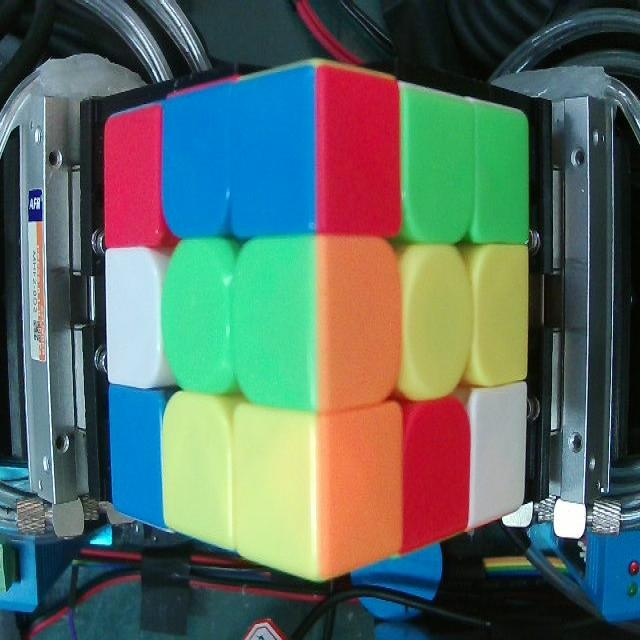b: (235, 87, 313, 229), (168, 98, 224, 232), (108, 393, 159, 518)
g: (238, 248, 310, 397), (408, 95, 468, 242), (168, 249, 224, 385), (477, 110, 530, 242)
o: (324, 414, 398, 576), (325, 244, 393, 396)
r: (322, 72, 400, 232), (406, 411, 466, 547), (106, 121, 156, 240)
w: (108, 255, 159, 381), (475, 390, 523, 518)
y: (237, 413, 311, 568), (404, 255, 464, 391), (166, 409, 222, 537), (479, 250, 527, 386)
